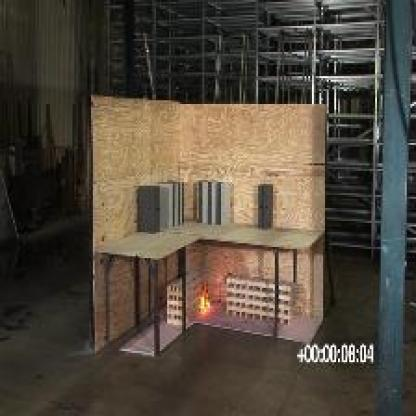fire: (192, 282, 212, 320)
